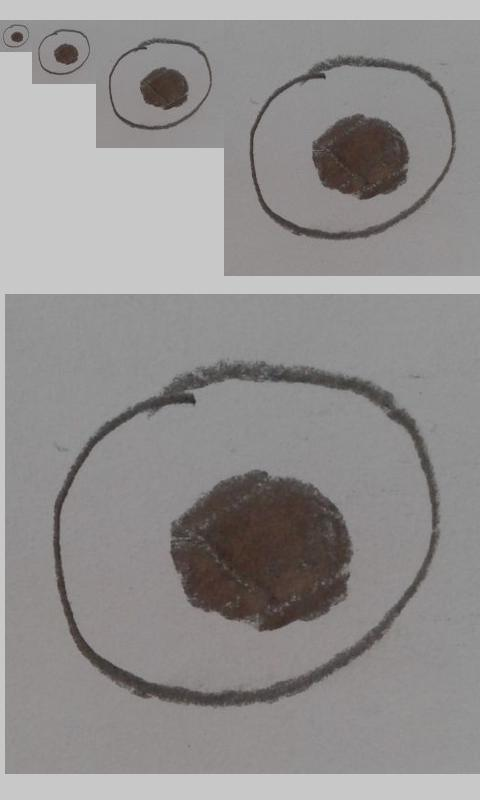radio_button: (52, 362, 442, 709), (248, 55, 456, 240), (108, 38, 213, 130), (38, 29, 91, 75), (2, 23, 30, 48)
